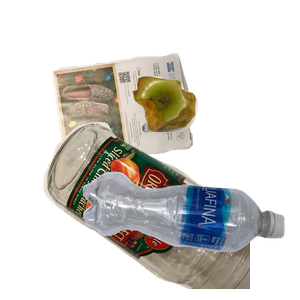glass: (41, 120, 281, 300)
paper: (49, 51, 235, 212)
plastic: (80, 169, 300, 300)
trash: (130, 74, 300, 199)
